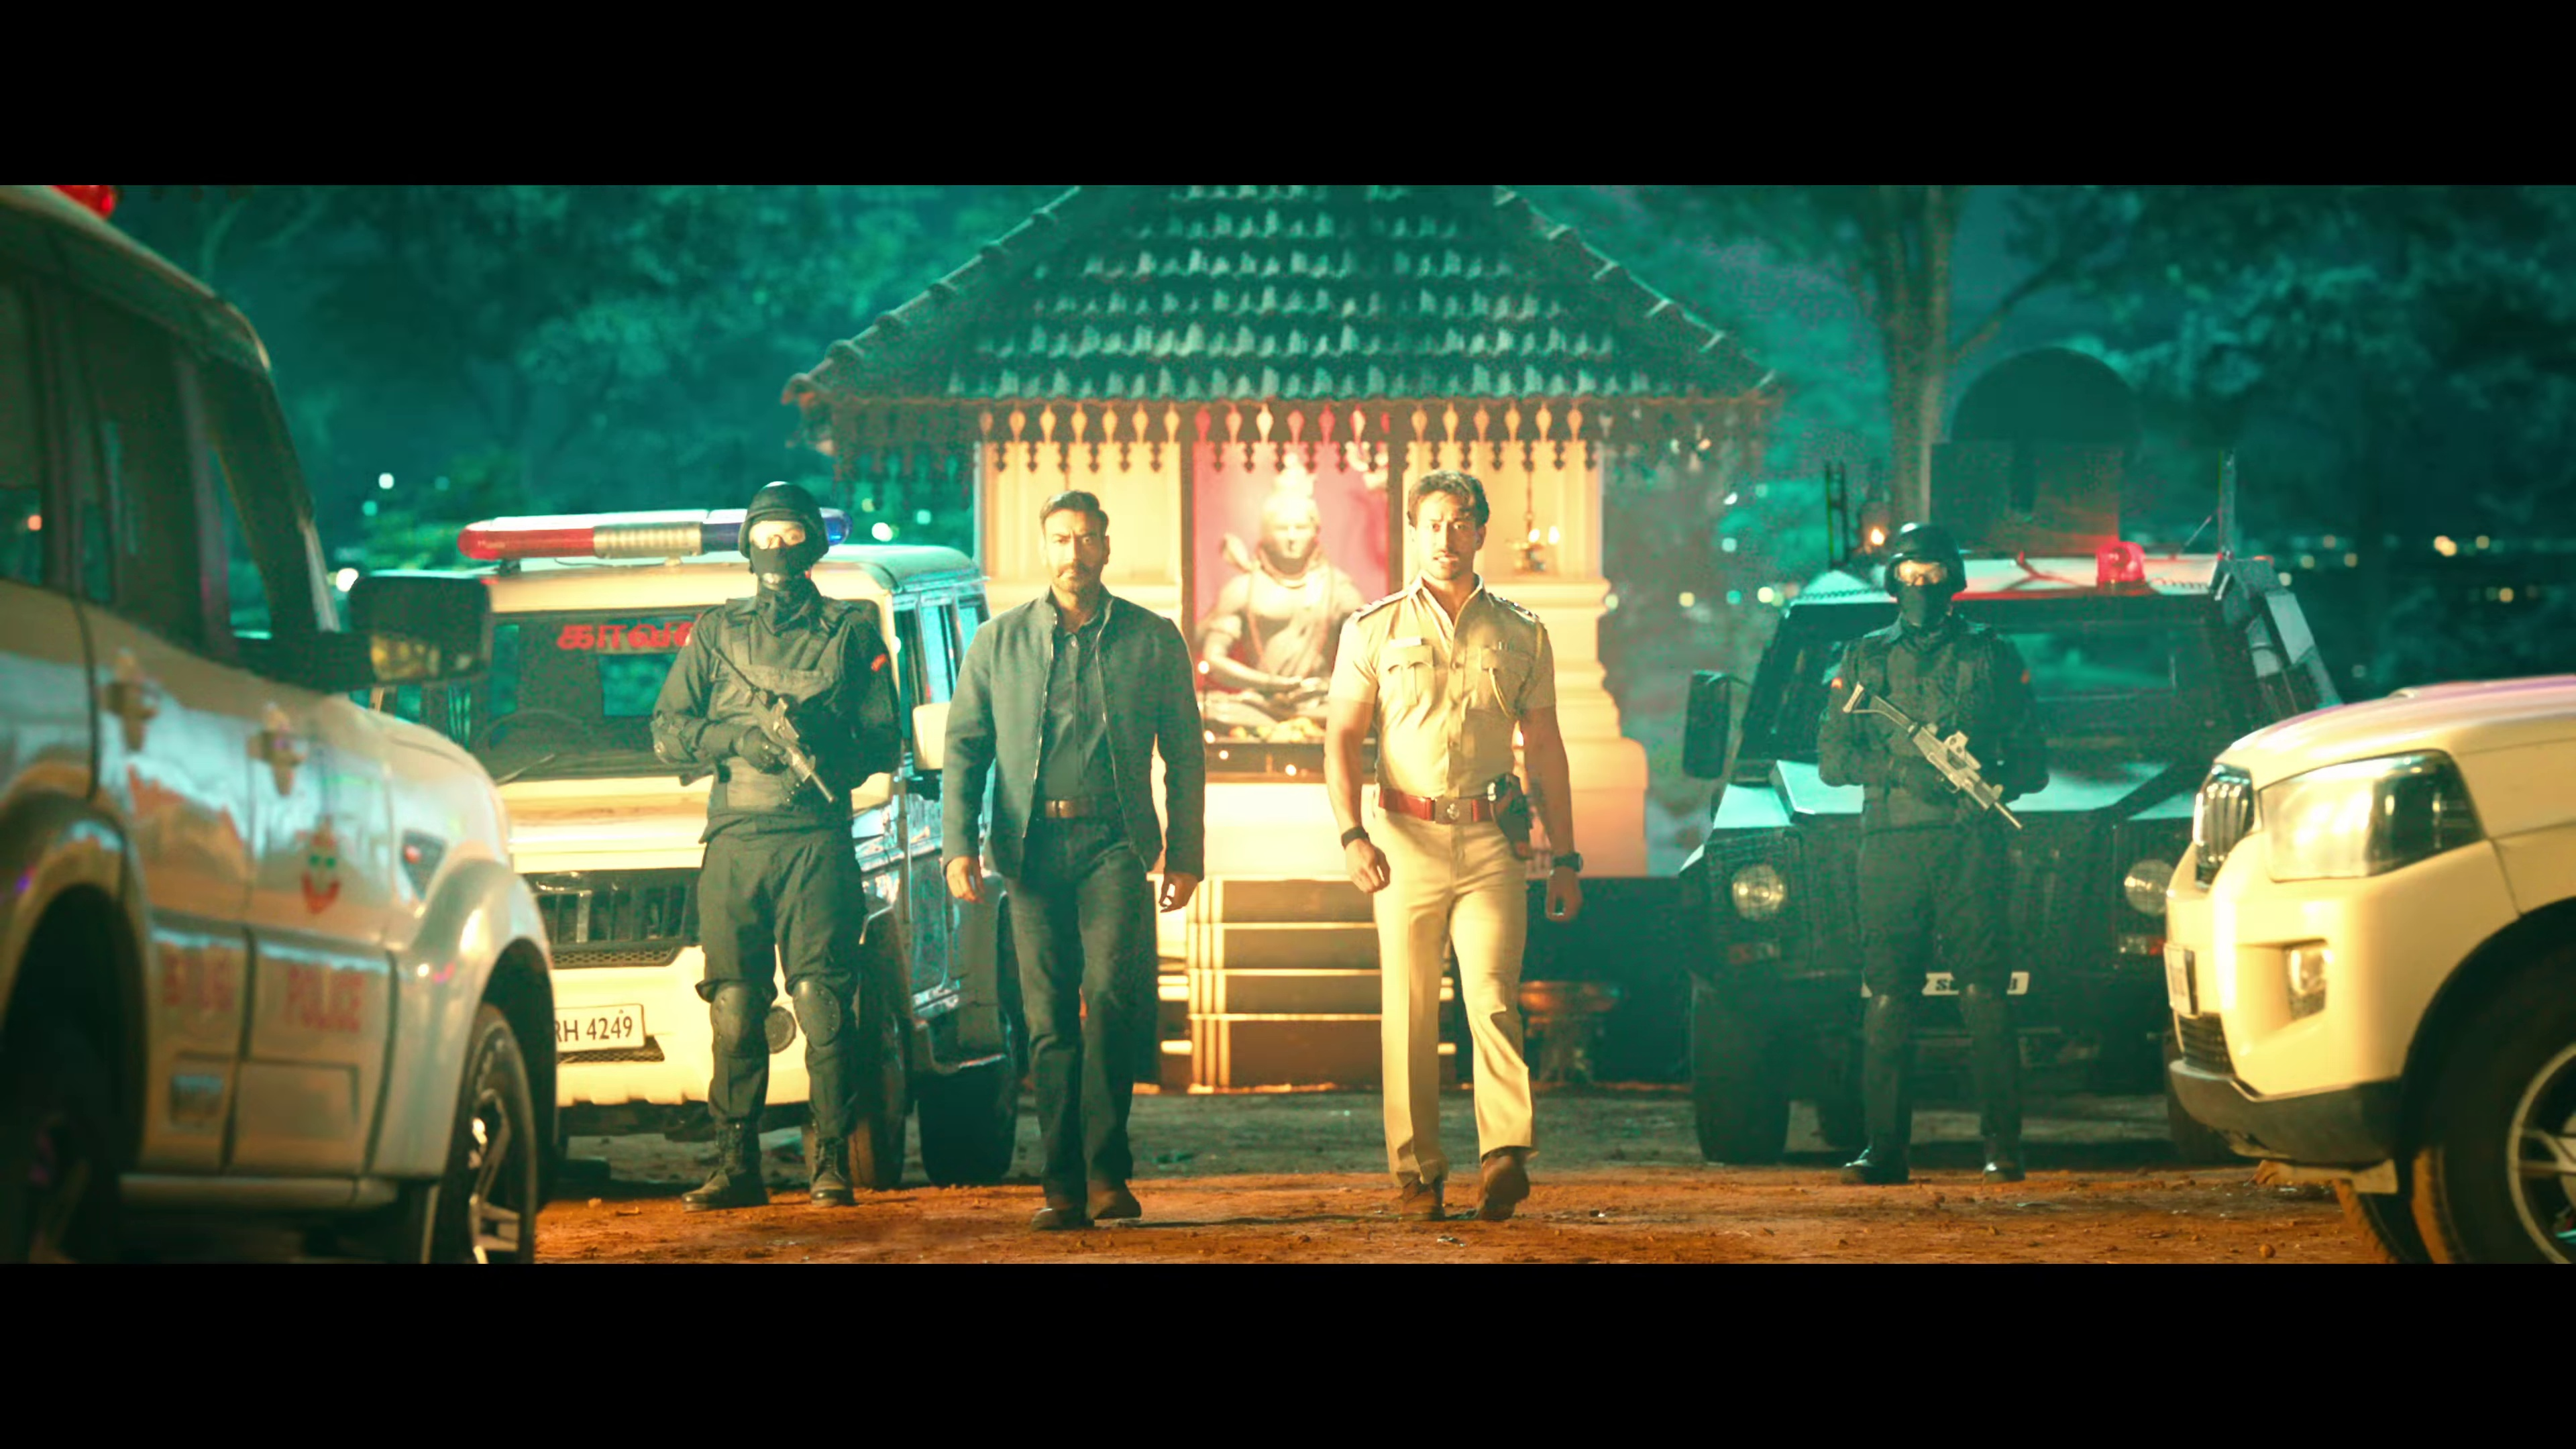gun: (1836, 679, 2024, 835), (738, 679, 842, 810), (1488, 770, 1537, 858)
p_w_gun: (1320, 465, 1587, 1228), (642, 478, 908, 1212), (1817, 517, 2063, 1189)
p_wo_gun_not_carrying_normal_pose: (938, 485, 1208, 1235)
